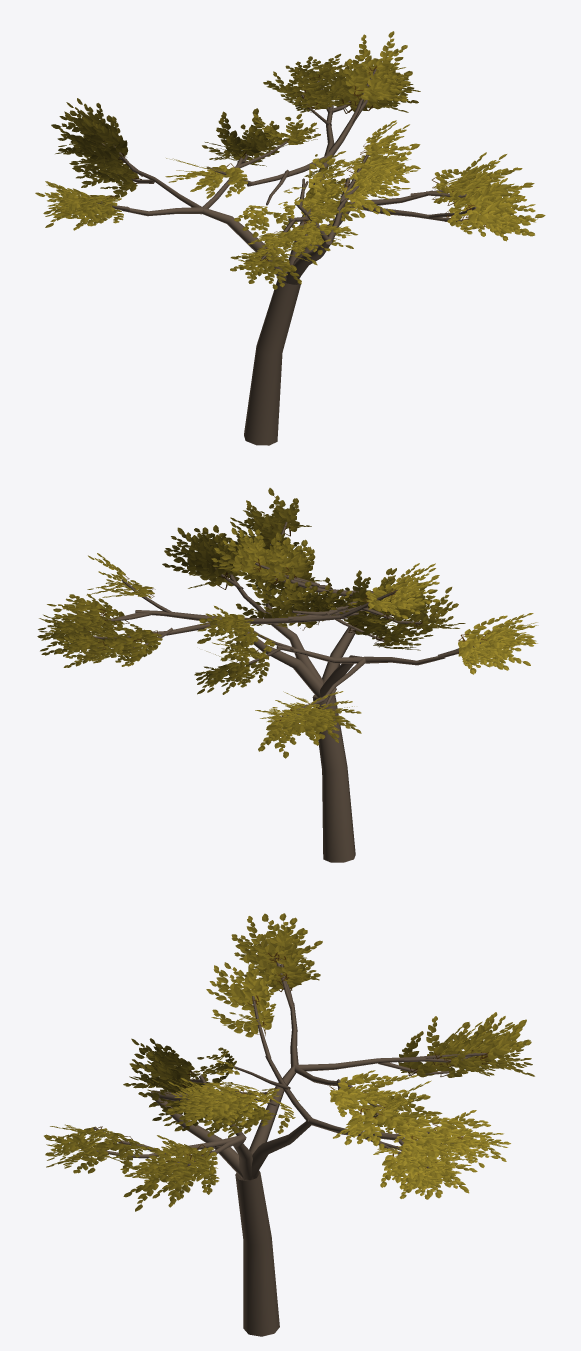
The model's file is acacia_1_burnt1.glb.
3 views of the same model, one above another, from view 1: azimuth 30°, elevation 25°; view 2: azimuth 150°, elevation 25°; view 3: azimuth 270°, elevation 25° (orthographic). The views are drawn at different scales.
Visible parts, largest first — view 1: acacia_1_burnt1; view 2: acacia_1_burnt1; view 3: acacia_1_burnt1.
Boxes of the visible parts, left/top/right/bottom form: acacia_1_burnt1: left=35, top=31, right=545, bottom=445; acacia_1_burnt1: left=37, top=488, right=538, bottom=862; acacia_1_burnt1: left=44, top=913, right=534, bottom=1336.
Bounding box in the file's own units: 10.26 × 6.51 × 9.64.
Materials: 2 (1 with a texture image).
